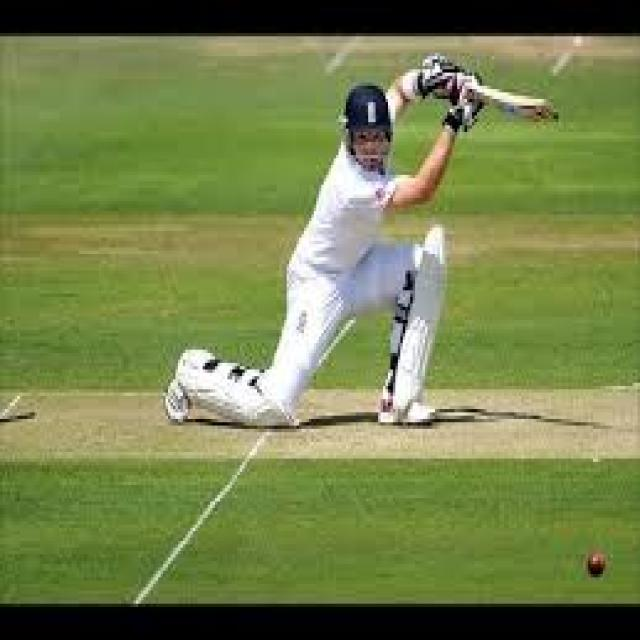toe: (518, 93, 566, 134)
